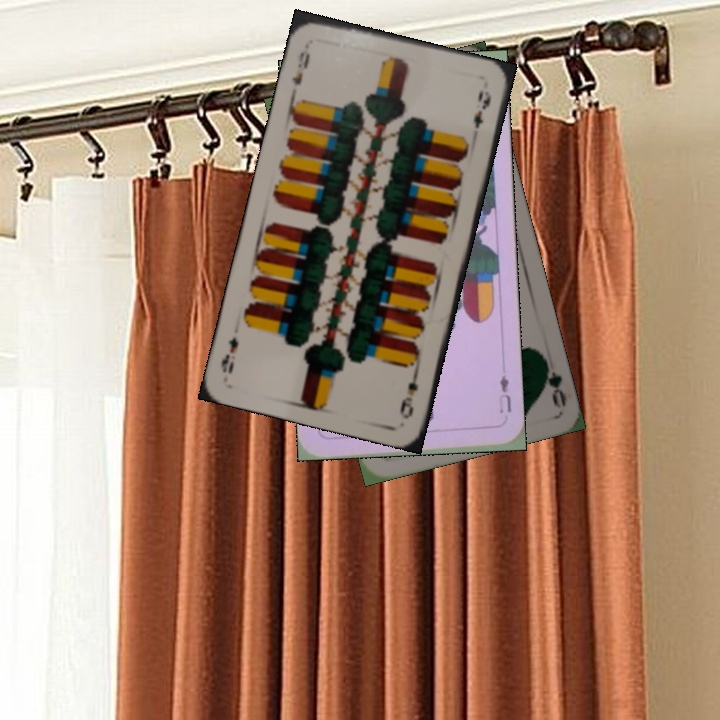E9: (395, 364, 422, 422), (287, 46, 313, 88)
EU: (495, 371, 514, 415)
GO: (538, 351, 569, 409)
